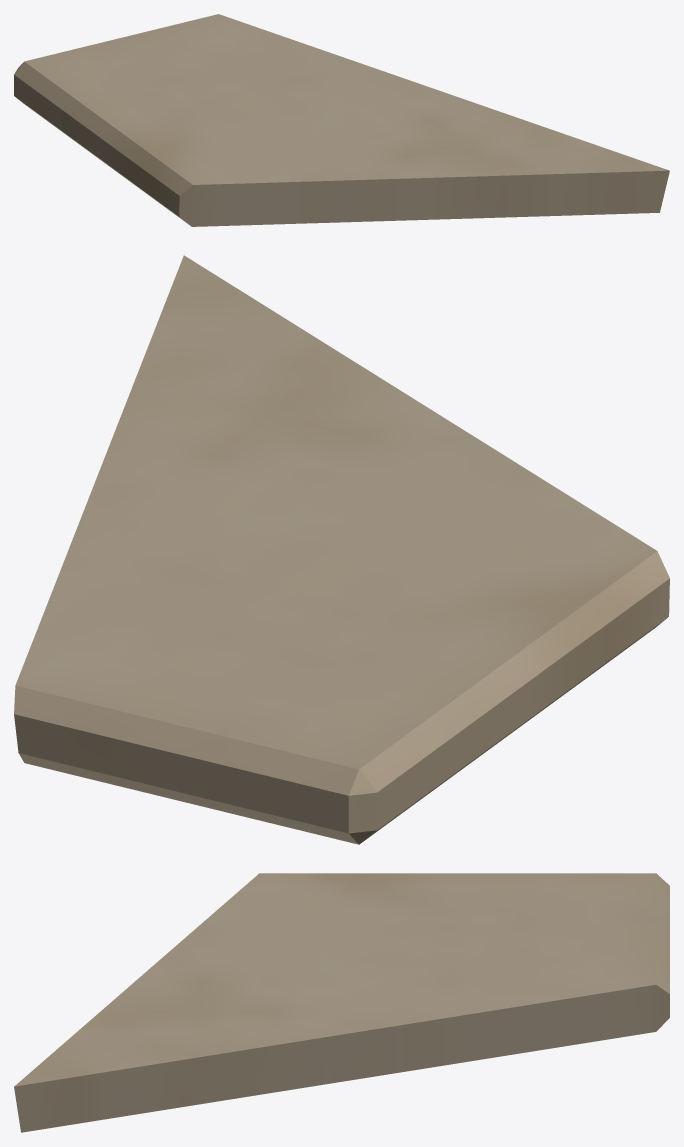
File: Mesh_Tile_03.fbx
3 renders of one model, top to bottom at view 1: azimuth 30°, elevation 25°; view 2: azimuth 150°, elevation 25°; view 3: azimuth 270°, elevation 25°, orthographic. The views are drawn at different scales.
Parts seen in each view (by area): view 1: Tile_03; view 2: Tile_03; view 3: Tile_03.
Part boxes in pixels (left/top/right/bottom): Tile_03: left=14, top=14, right=669, bottom=226; Tile_03: left=14, top=255, right=669, bottom=844; Tile_03: left=14, top=873, right=669, bottom=1132.
Size of the model in its own units: 17.98 by 1.92 by 22.72.
1 material, 1 textured.
